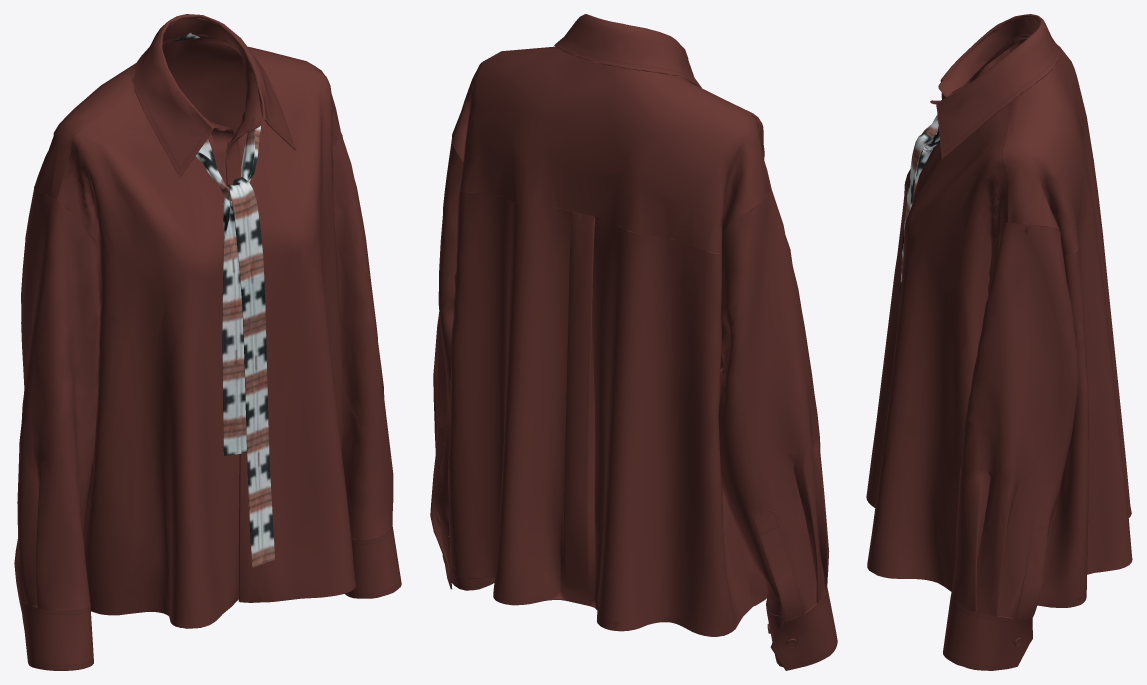
The model's file is western-shirt.glb.
3 views of the same model, side by side, from view 1: azimuth 30°, elevation 25°; view 2: azimuth 150°, elevation 25°; view 3: azimuth 270°, elevation 25° (orthographic). The views are drawn at different scales.
Visible parts, largest first — view 1: western-shirt; view 2: western-shirt; view 3: western-shirt.
Boxes of the visible parts, left/top/right/bottom form: western-shirt: left=14, top=14, right=401, bottom=670; western-shirt: left=430, top=14, right=837, bottom=670; western-shirt: left=866, top=14, right=1132, bottom=670.
Bounding box in the file's own units: 1.42 × 2.2 × 0.9293.
1 material, 1 textured.
